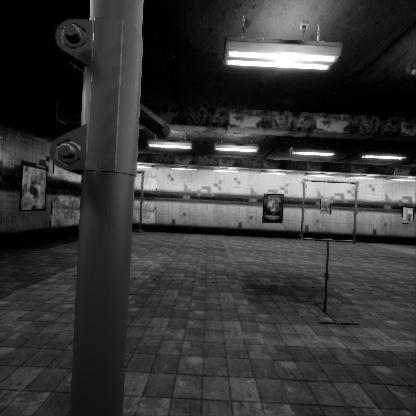gate: (86, 183, 149, 248), (301, 172, 363, 237)
